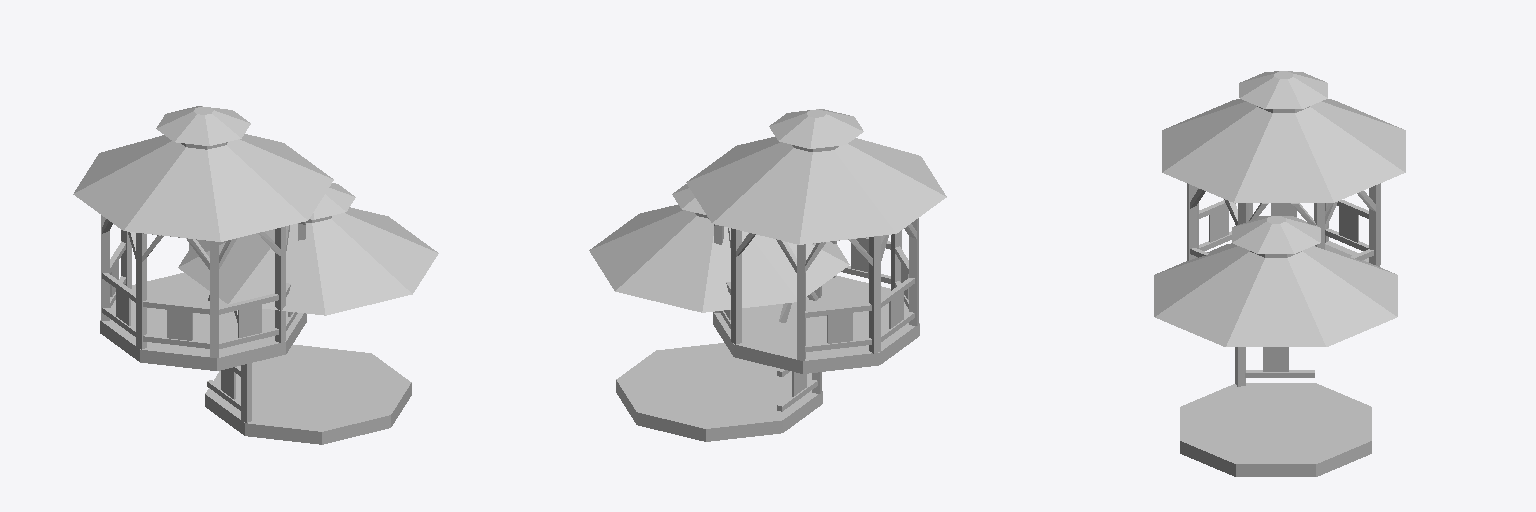
The model's file is gazerbo.obj.
The picture shows the model from 3 angles: view 1: azimuth 30°, elevation 25°; view 2: azimuth 150°, elevation 25°; view 3: azimuth 270°, elevation 25°; orthographic projection.
Parts seen in each view (by area): view 1: gazebo_Cylinder, Cylinder.003, Cylinder.002; view 2: gazebo_Cylinder, Cylinder.003, Cylinder.002; view 3: Cylinder.003, gazebo_Cylinder, Cylinder.002.
Boxes of the visible parts, <box> form: gazebo_Cylinder: <box>73,106,333,370</box>; Cylinder.003: <box>178,183,438,444</box>; Cylinder.002: <box>207,295,251,422</box>; gazebo_Cylinder: <box>686,109,946,373</box>; Cylinder.003: <box>589,184,849,441</box>; Cylinder.002: <box>777,286,821,411</box>; Cylinder.003: <box>1154,216,1397,476</box>; gazebo_Cylinder: <box>1162,71,1405,266</box>; Cylinder.002: <box>1235,347,1314,386</box>.
Size of the model in its own units: 9.72 by 9.31 by 6.78.